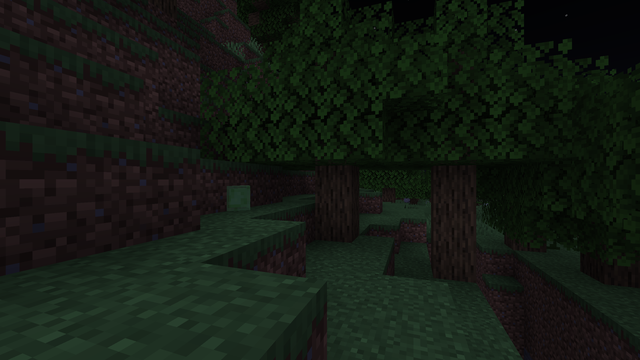slimes: (227, 184, 253, 210)
